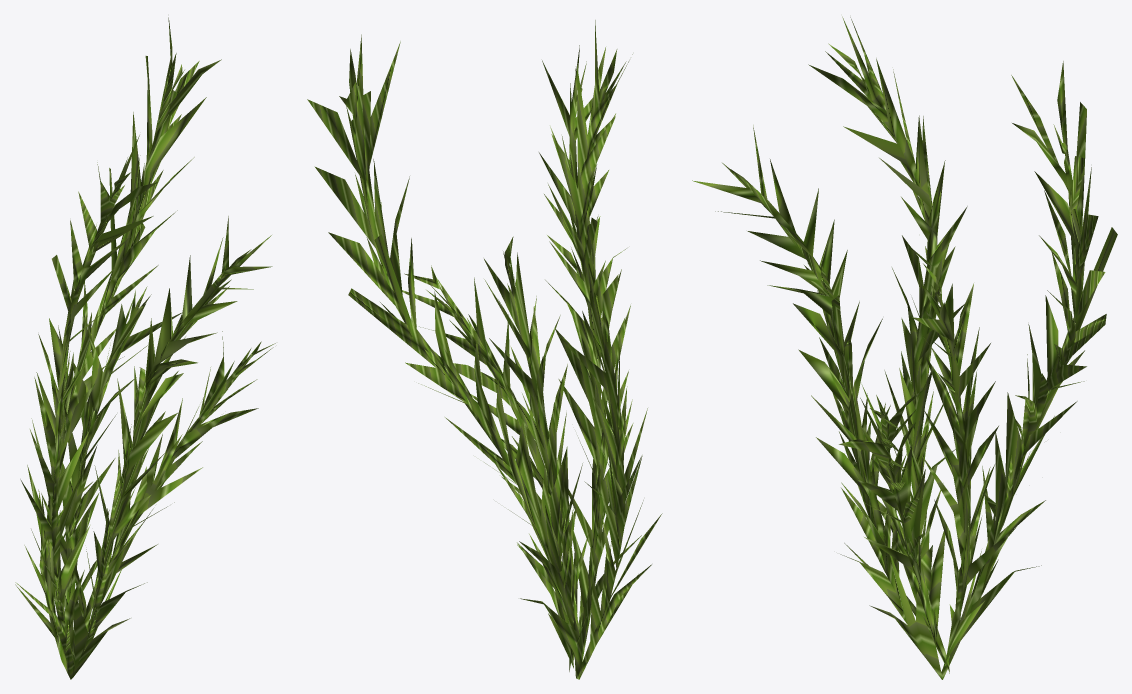
File: kapradi.obj
3 views of the same model, side by side, from view 1: azimuth 30°, elevation 25°; view 2: azimuth 150°, elevation 25°; view 3: azimuth 270°, elevation 25° (orthographic). The views are drawn at different scales.
Visible parts, largest first — view 1: Object01; view 2: Object01; view 3: Object01.
Boxes of the visible parts, box(x1,y1,x2,y2) form: Object01: box(15, 17, 275, 679); Object01: box(307, 20, 662, 679); Object01: box(692, 16, 1117, 679).
Bounding box in the file's own units: 612 × 1378 × 754.
Materials: 1 (1 with a texture image).
